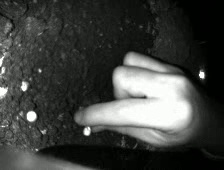corn: (24, 109, 39, 123), (19, 79, 31, 94), (81, 124, 93, 138)
